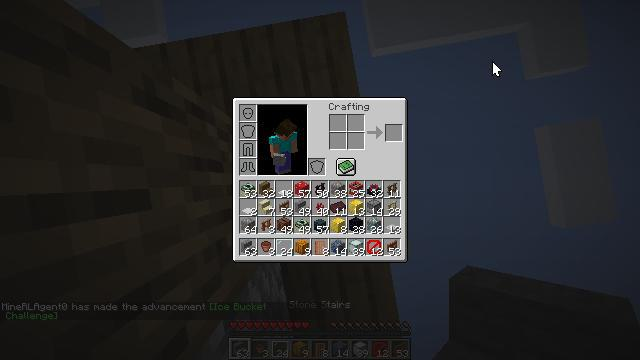cursor: (492, 61, 502, 77)
